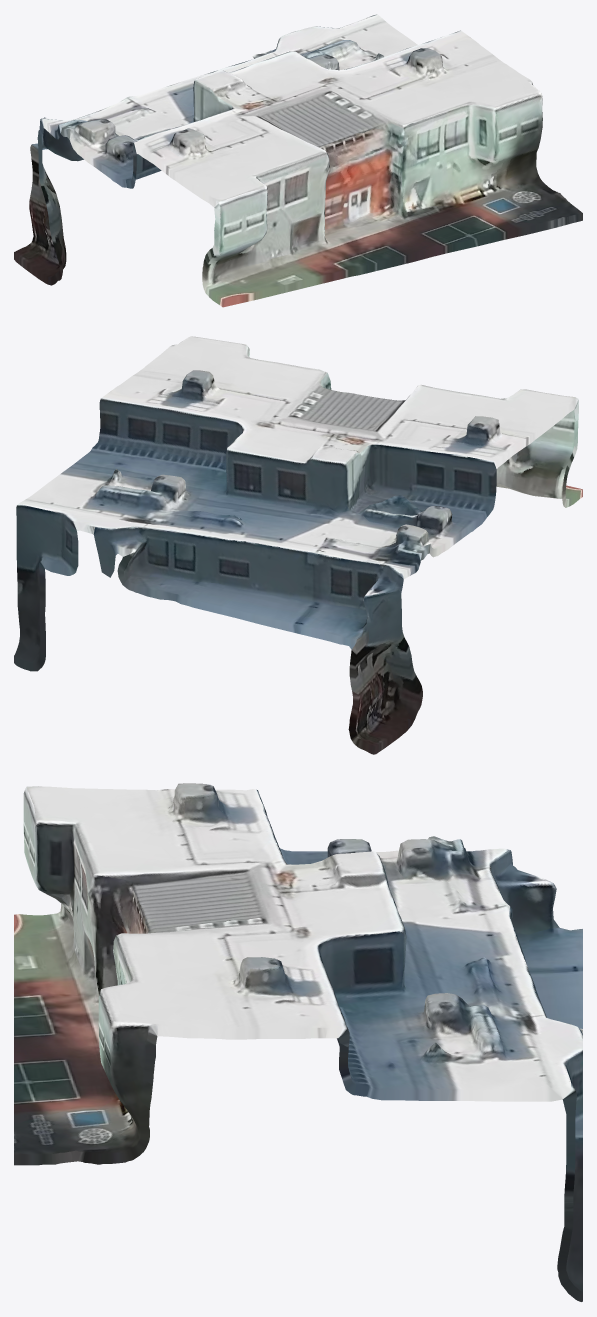
The model's file is z20-167752-405196-h0-yup-uvflip-v3-world.glb.
3 renders of one model, top to bottom at view 1: azimuth 30°, elevation 25°; view 2: azimuth 150°, elevation 25°; view 3: azimuth 270°, elevation 25°, orthographic. The views are drawn at different scales.
Size of the model in its own units: 30.16 by 17.88 by 30.32.
Materials: 1 (1 with a texture image).
